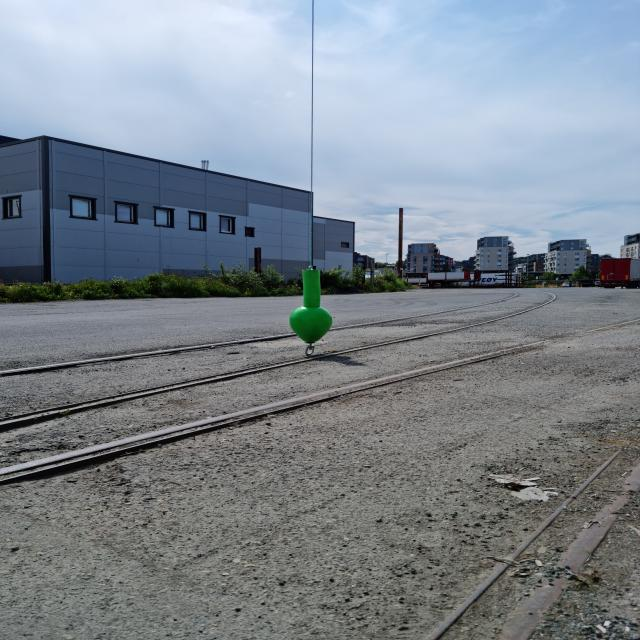green: (291, 272, 331, 342)
